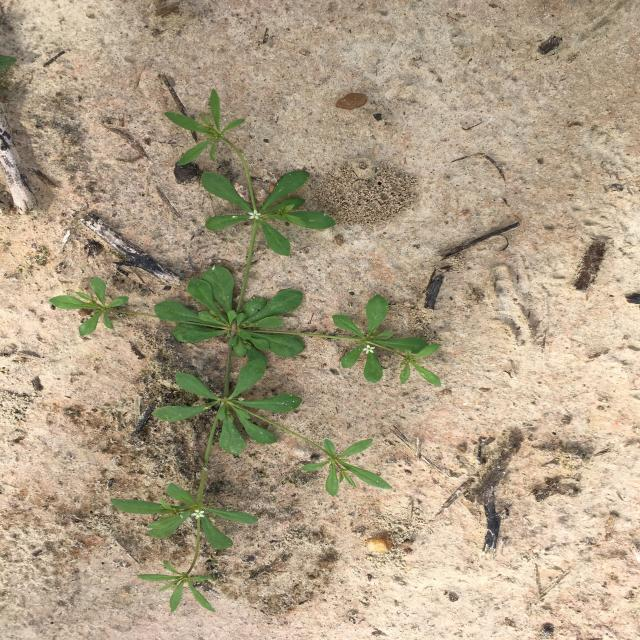Carpetweed: (49, 88, 442, 612)
